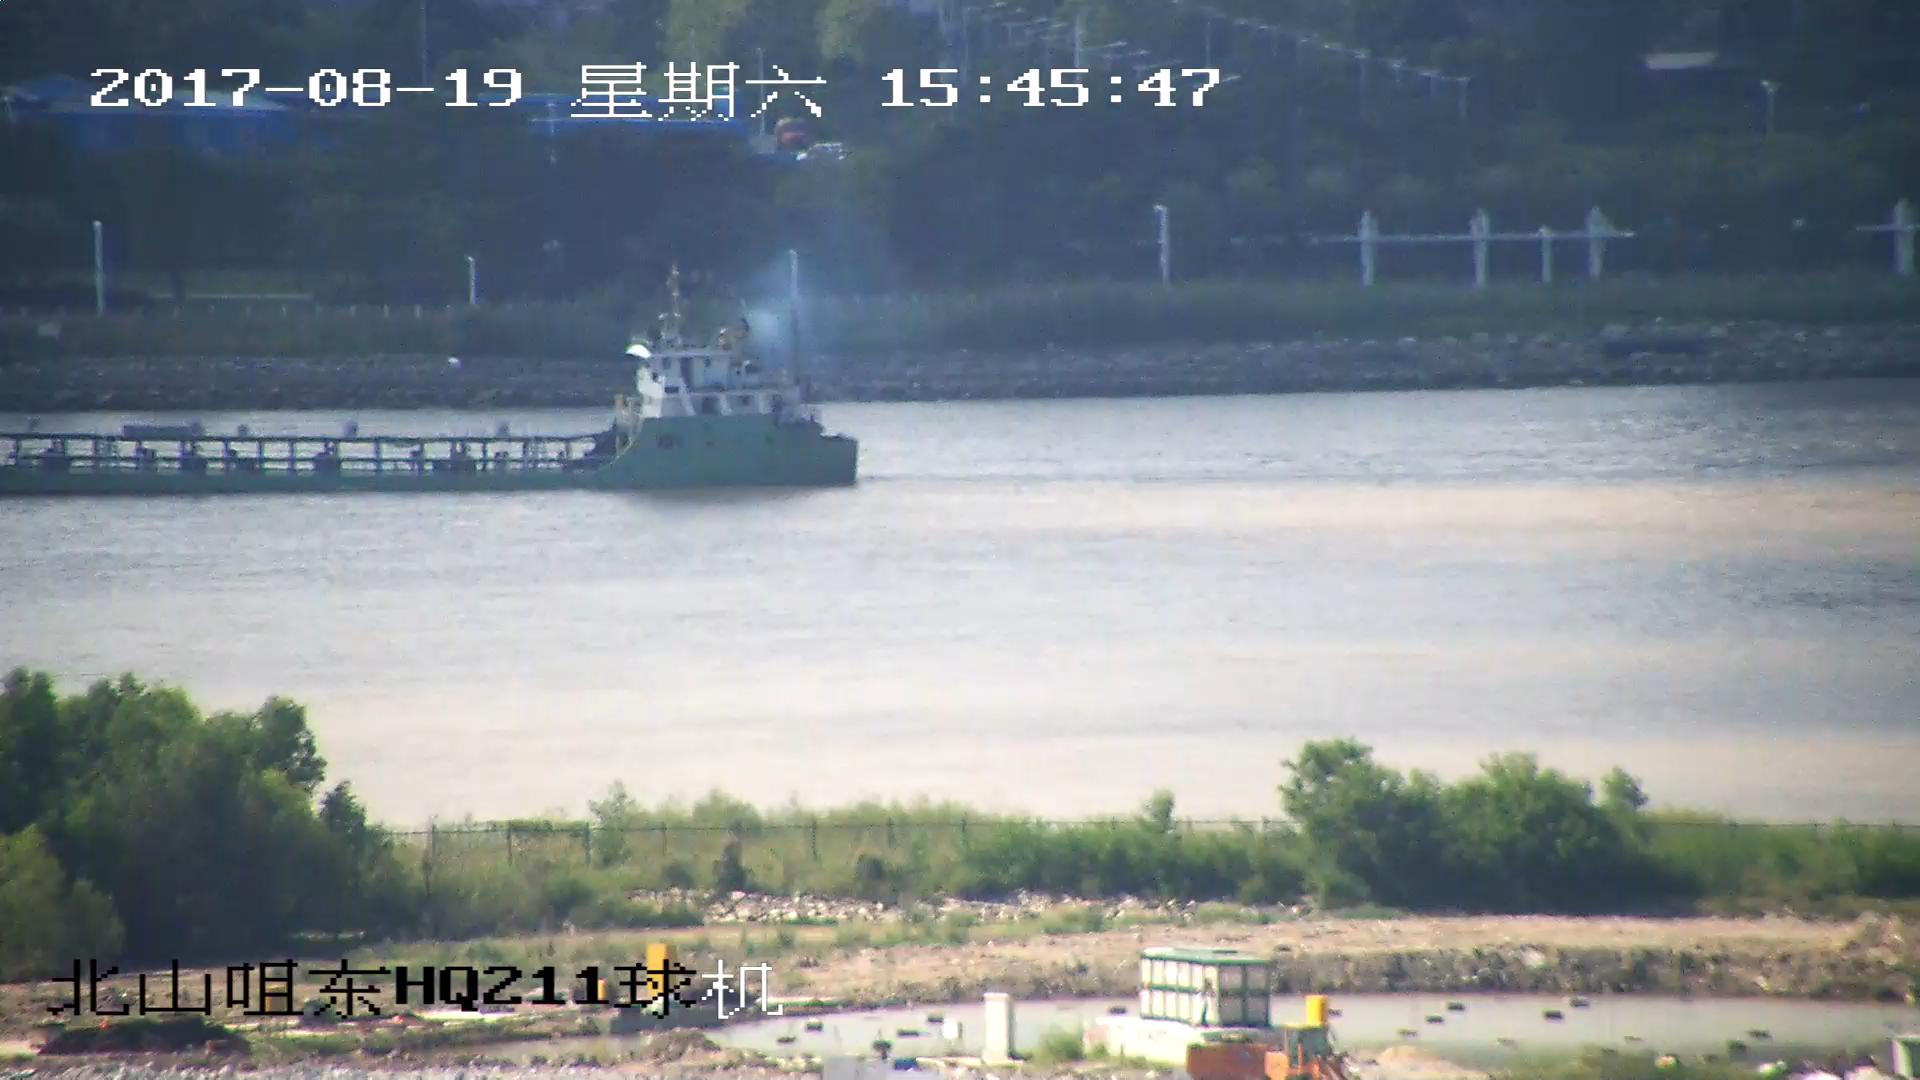general cargo ship: (1, 295, 863, 492)
